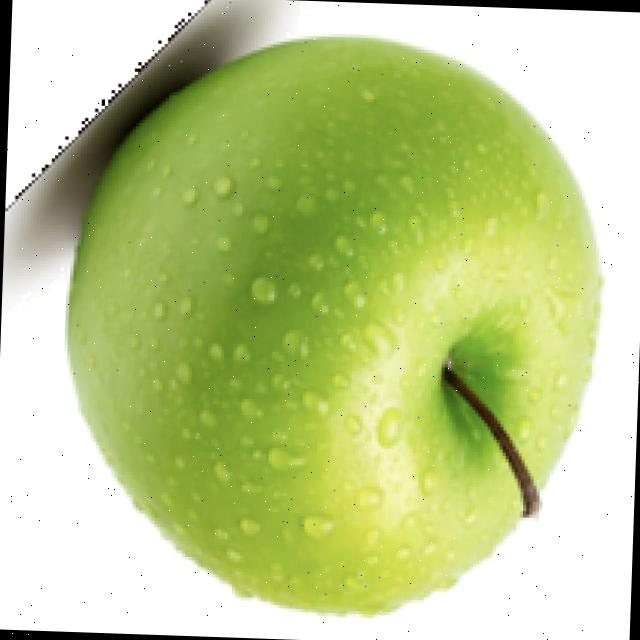apple: (3, 0, 607, 622)
